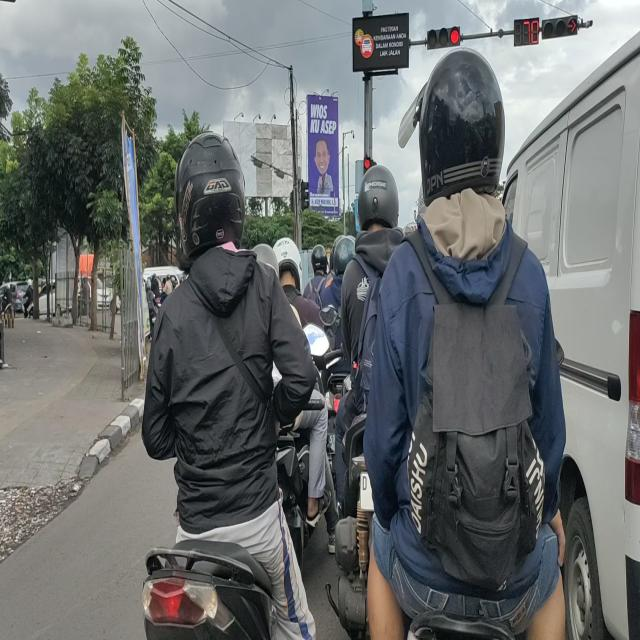helmet: (421, 51, 505, 206), (178, 133, 245, 251), (360, 162, 400, 231), (273, 239, 303, 299), (334, 240, 354, 280), (312, 245, 328, 274)
